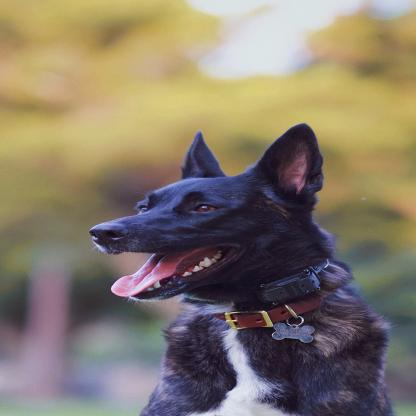dog: (84, 134, 399, 416)
